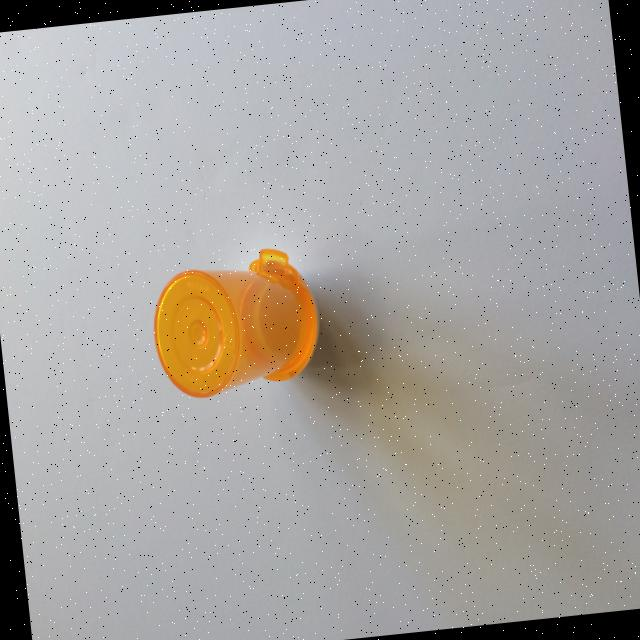plastic: (144, 242, 326, 402)
